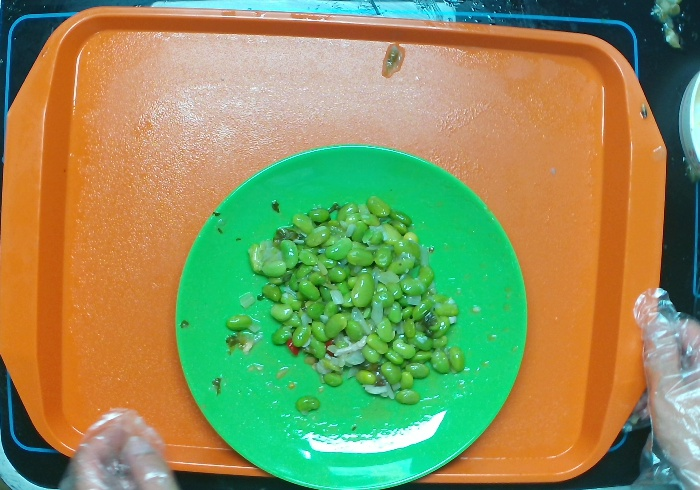HZYJPL-Lv_Se_Yuan_Pan: (173, 137, 527, 490)
